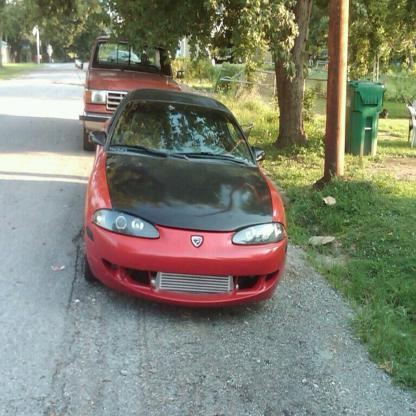Vehicle: (85, 90, 288, 309)
